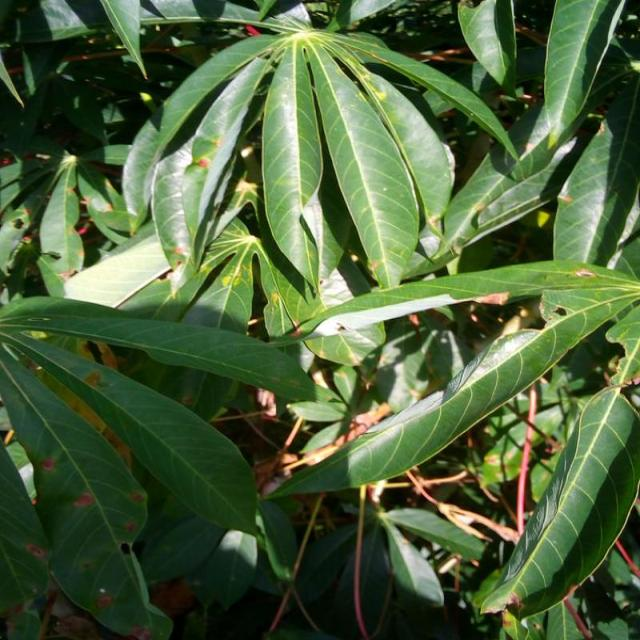cassava leaf: (1, 1, 638, 636), (479, 383, 639, 621)
